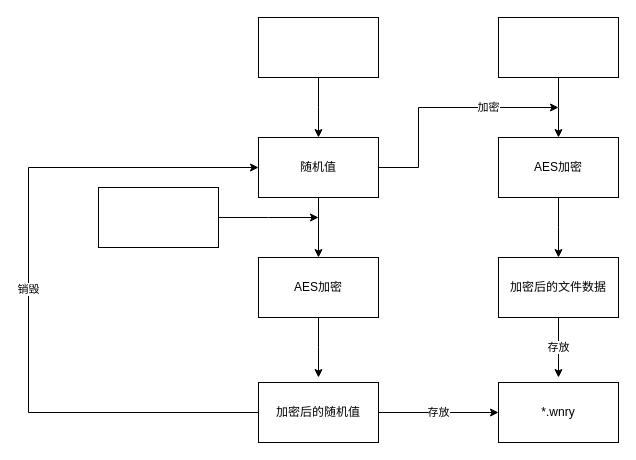
This 636x460 diagram has some shape labels left out. Here are the shapes that lost their labels. From the top down, the centre of each, then its label:
At (x=318, y=47): "本地生成一个随机值".
At (x=558, y=47): "原文件数据".
At (x=158, y=217): "本地生成的公钥".
